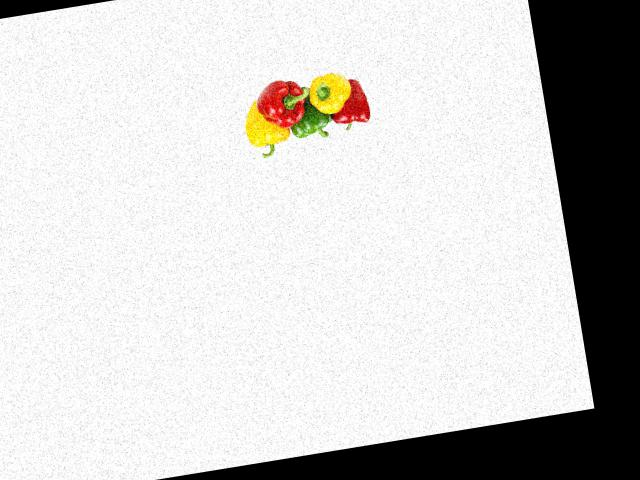bell_pepper: (327, 82, 375, 134)
